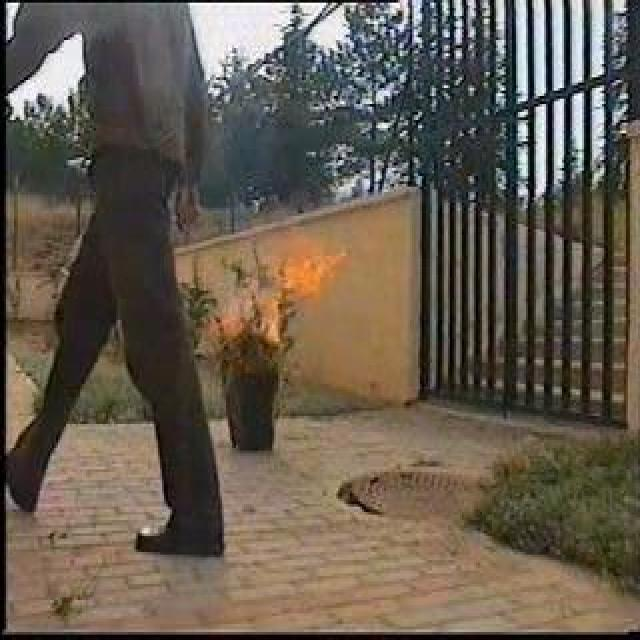fire: (210, 245, 340, 338)
